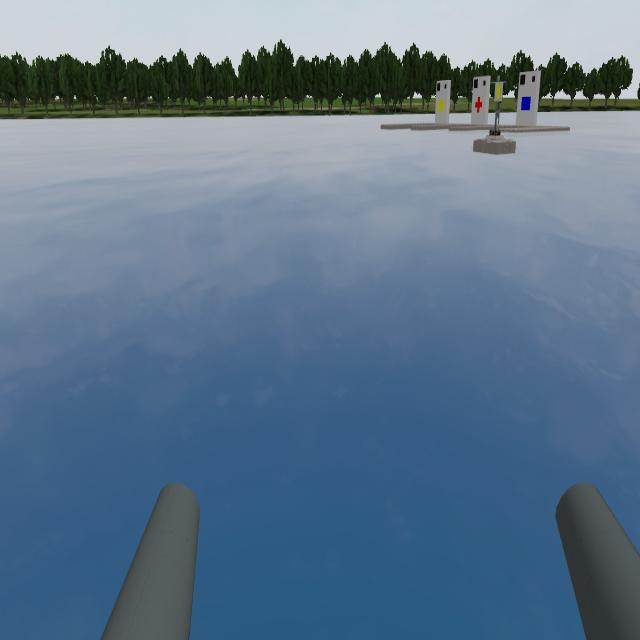yellow_pole: (491, 74, 508, 114)
